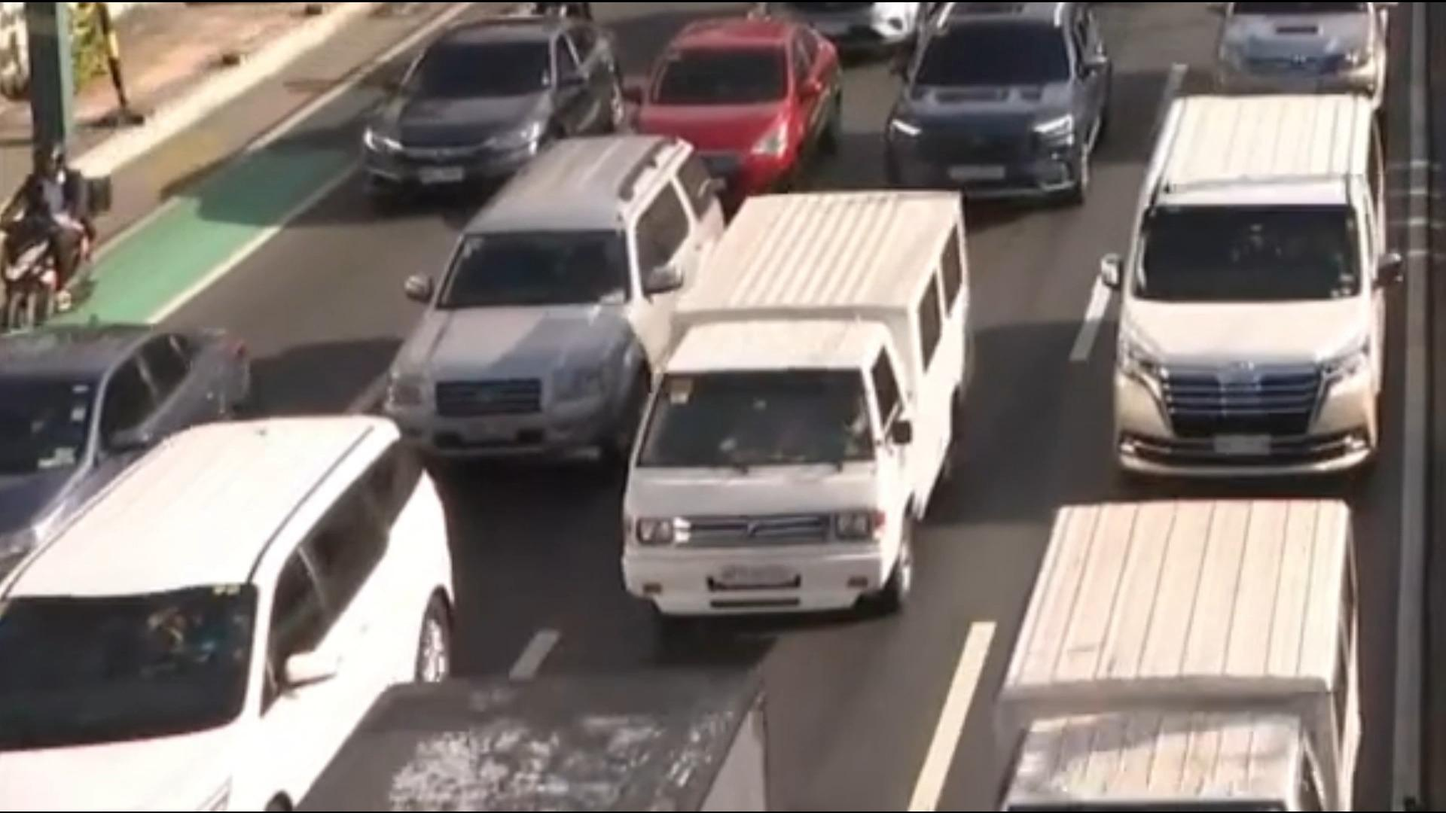Motorcycle: (0, 125, 155, 380)
Multicab: (563, 166, 1036, 670), (915, 465, 1403, 813)
SUV: (0, 413, 441, 813), (385, 110, 744, 473), (859, 0, 1141, 209)
Sedan: (0, 292, 273, 595), (334, 0, 605, 232), (614, 17, 838, 206)
Van: (1048, 89, 1443, 502)
